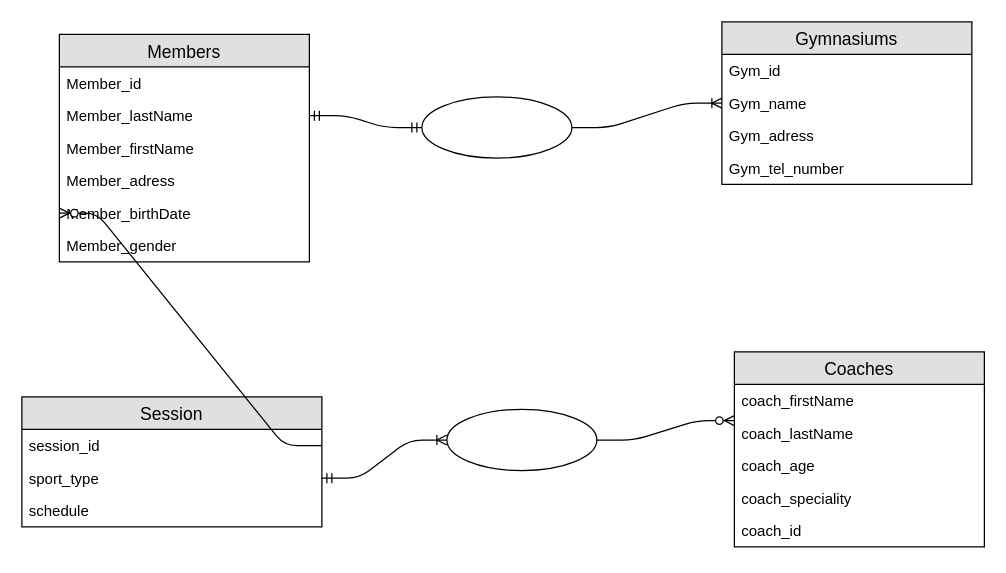
Image size: 1006x573. Some labels were removed from this diagram. The centre of each missing label's shape, as x and y in pixels:
led_by: point (521, 439)
registered_at: point (496, 127)
